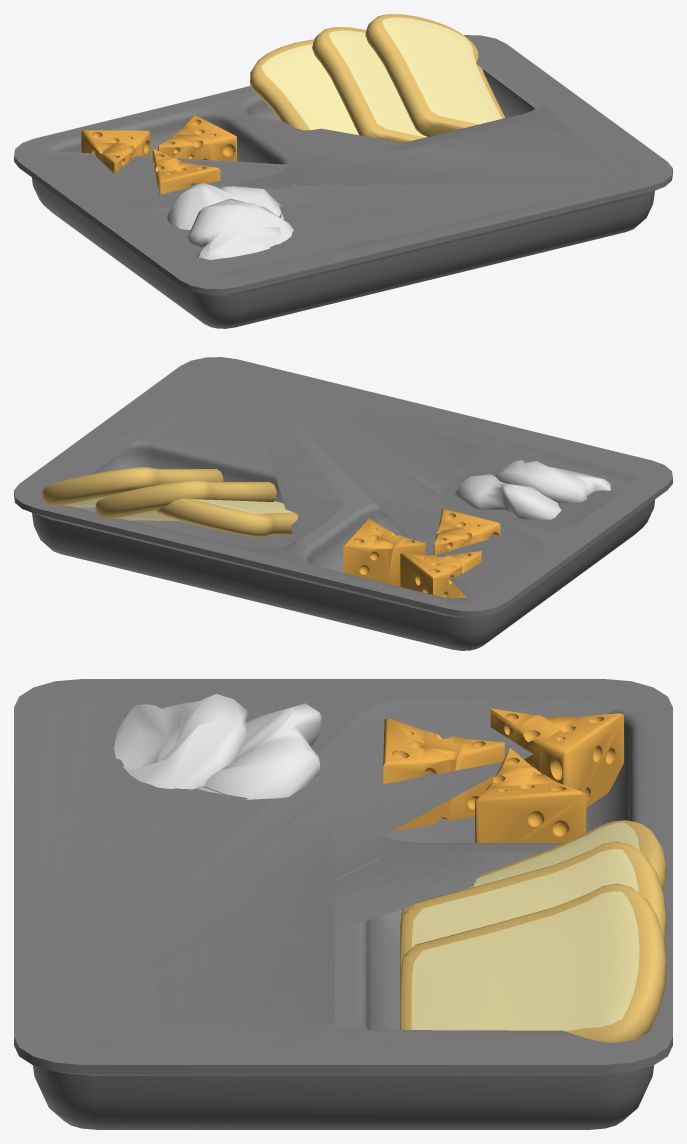
File: Jail.fbx
The picture shows the model from 3 angles, top to bottom: view 1: azimuth 30°, elevation 25°; view 2: azimuth 150°, elevation 25°; view 3: azimuth 270°, elevation 25°; orthographic projection. The views are drawn at different scales.
Parts seen in each view (by area): view 1: Cube.094, Cube.155, Cube.154, Cube.153, Sphere.036, Cube.151, Sphere.037, Cube.095, Cube.152; view 2: Cube.094, Cube.154, Cube.153, Cube.155, Cube.151, Sphere.037, Sphere.036, Cube.095, Cube.152; view 3: Cube.094, Cube.155, Cube.154, Sphere.036, Cube.095, Cube.151, Sphere.037, Cube.152, Cube.153.
Part boxes in pixels (x1=…): Cube.094: x1=14, y1=35, x2=672, y2=328; Cube.155: x1=365, y1=14, x2=505, y2=136; Cube.154: x1=312, y1=27, x2=427, y2=142; Cube.153: x1=250, y1=39, x2=358, y2=135; Sphere.036: x1=187, y1=198, x2=293, y2=259; Cube.151: x1=158, y1=114, x2=236, y2=161; Sphere.037: x1=167, y1=183, x2=283, y2=229; Cube.095: x1=81, y1=130, x2=150, y2=173; Cube.152: x1=152, y1=149, x2=220, y2=194; Cube.094: x1=14, y1=357, x2=672, y2=650; Cube.154: x1=95, y1=480, x2=276, y2=520; Cube.153: x1=155, y1=498, x2=298, y2=536; Cube.155: x1=42, y1=467, x2=223, y2=507; Cube.151: x1=343, y1=518, x2=425, y2=585; Sphere.037: x1=455, y1=474, x2=561, y2=519; Sphere.036: x1=495, y1=460, x2=610, y2=502; Cube.095: x1=400, y1=551, x2=481, y2=598; Cube.152: x1=433, y1=509, x2=500, y2=554; Cube.094: x1=14, y1=679, x2=672, y2=1129; Cube.155: x1=400, y1=883, x2=666, y2=1042; Cube.154: x1=400, y1=841, x2=666, y2=986; Sphere.036: x1=114, y1=693, x2=248, y2=789; Cube.095: x1=490, y1=708, x2=623, y2=807; Cube.151: x1=475, y1=748, x2=586, y2=842; Sphere.037: x1=197, y1=703, x2=321, y2=799; Cube.152: x1=383, y1=718, x2=504, y2=831; Cube.153: x1=400, y1=820, x2=666, y2=944.
Size of the model in its own units: 140 by 29.38 by 101.
